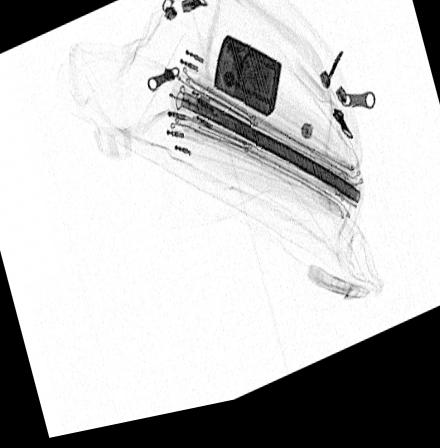Lighter: (213, 42, 282, 128)
